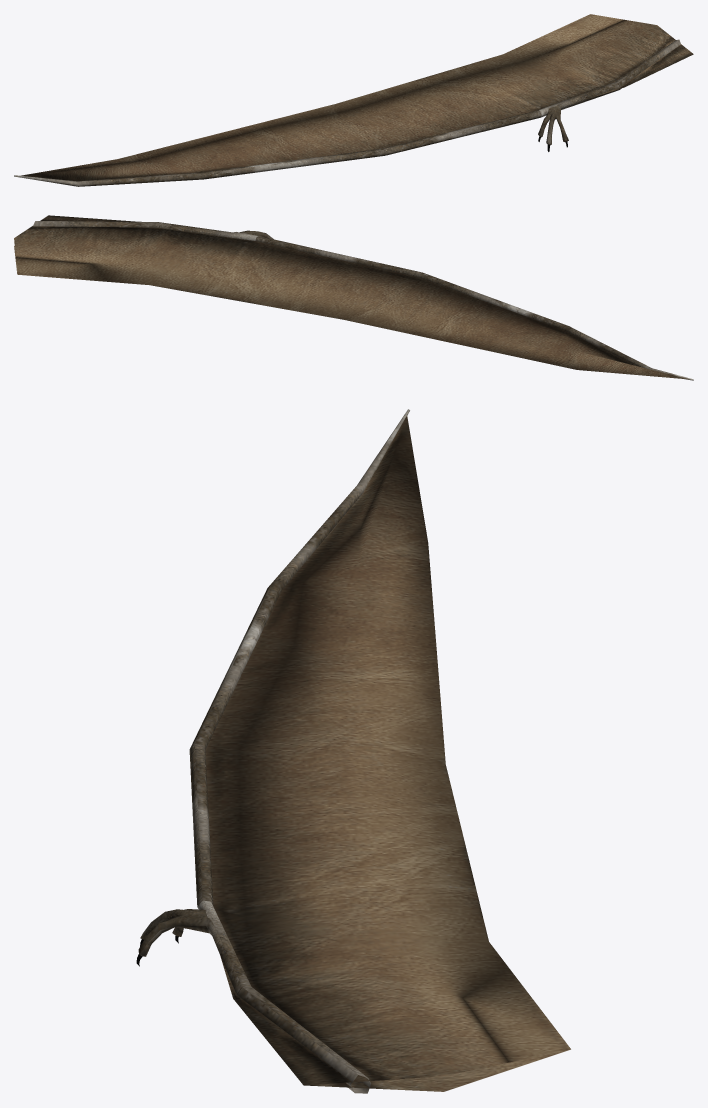
Rendered from AlaIzq.obj.
3 renders of one model, top to bottom at view 1: azimuth 30°, elevation 25°; view 2: azimuth 150°, elevation 25°; view 3: azimuth 270°, elevation 25°, orthographic. The views are drawn at different scales.
Visible parts, largest first — view 1: corpo1_corpo; view 2: corpo1_corpo; view 3: corpo1_corpo.
Boxes of the visible parts, <box> form: corpo1_corpo: <box>14,14,693,186</box>; corpo1_corpo: <box>14,215,693,380</box>; corpo1_corpo: <box>136,409,570,1093</box>.
Size of the model in its own units: 817 by 51.36 by 235.
1 material, 1 textured.
